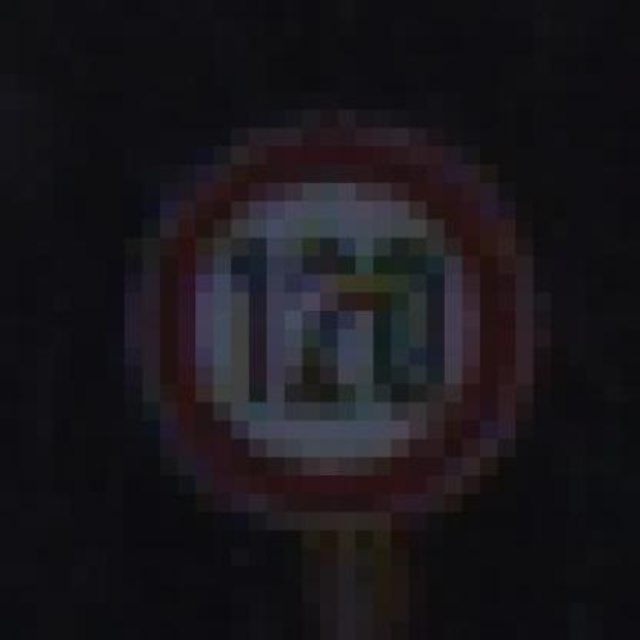Tốc độ tối đa cho phép 120km/h: (148, 138, 529, 521)
